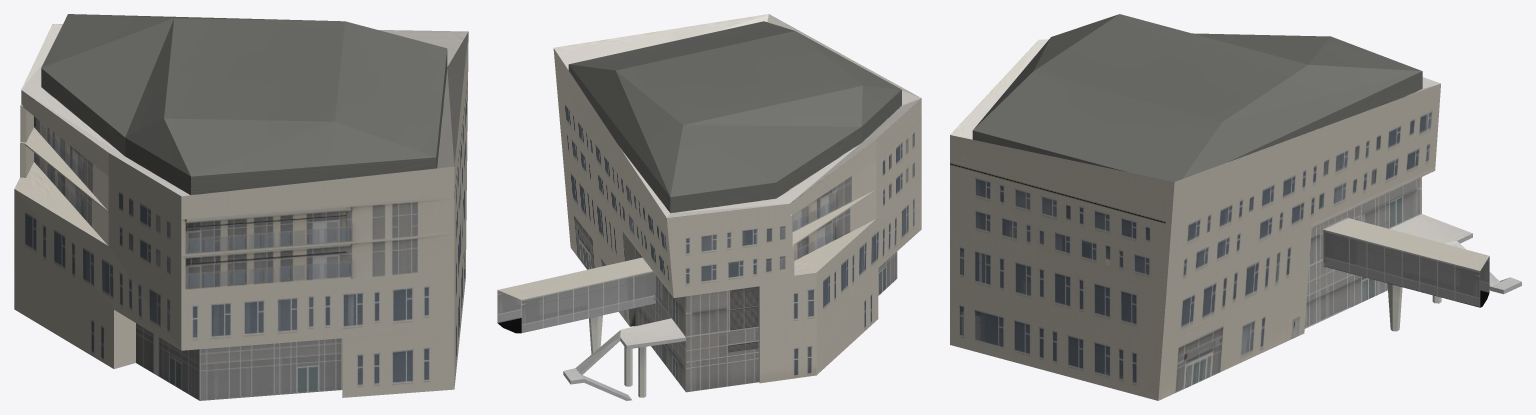
3 views of the same model, side by side, from view 1: azimuth 30°, elevation 25°; view 2: azimuth 150°, elevation 25°; view 3: azimuth 270°, elevation 25° (orthographic). The views are drawn at different scales.
Parts seen in each view (by area): view 1: 209-B.001; view 2: 209-B.001; view 3: 209-B.001.
Part boxes in pixels (box(x1,y1,x2,y2)): 209-B.001: box(14, 14, 468, 400); 209-B.001: box(497, 14, 921, 400); 209-B.001: box(950, 14, 1521, 400).
Size of the model in its own units: 39.64 by 25.22 by 54.71.
Materials: 1 (1 with a texture image).
